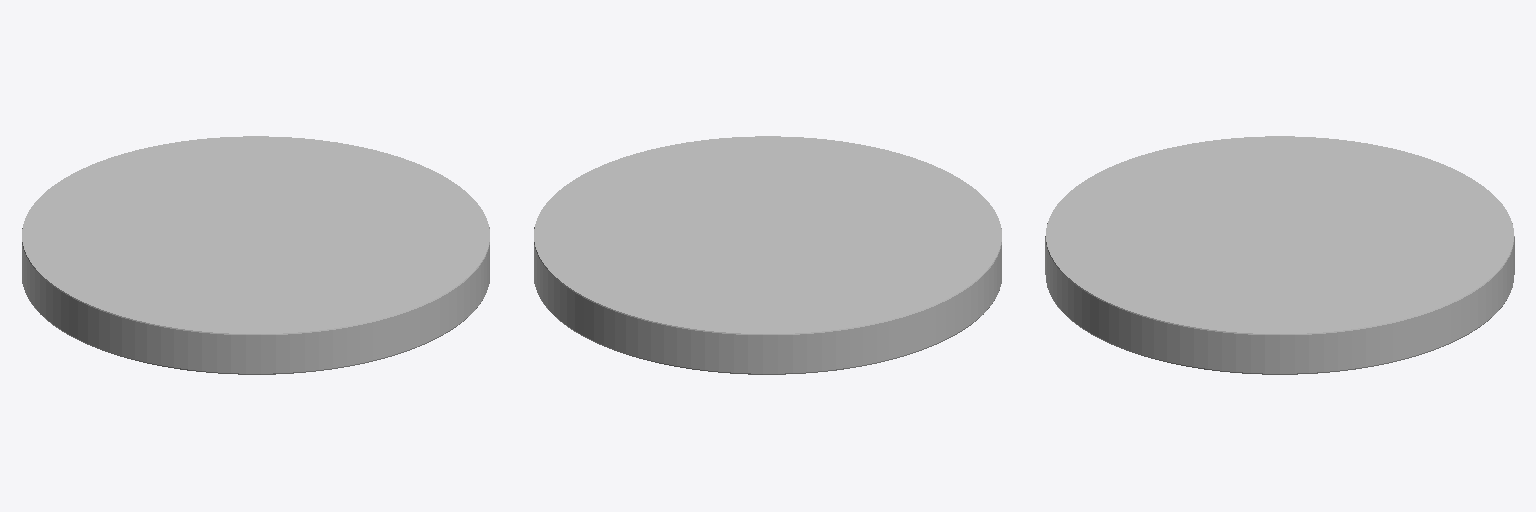
The model's file is 06_tapa_1.obj.
The picture shows the model from 3 angles: view 1: azimuth 30°, elevation 25°; view 2: azimuth 150°, elevation 25°; view 3: azimuth 270°, elevation 25°; orthographic projection.
Parts seen in each view (by area): view 1: 16818_carousel_v1; view 2: 16818_carousel_v1; view 3: 16818_carousel_v1.
Part boxes in pixels (x1,y1,x2,y2): 16818_carousel_v1: (22,136,489,374); 16818_carousel_v1: (534,136,1001,374); 16818_carousel_v1: (1045,136,1514,374).
Size of the model in its own units: 4.94 by 0.4827 by 4.94.